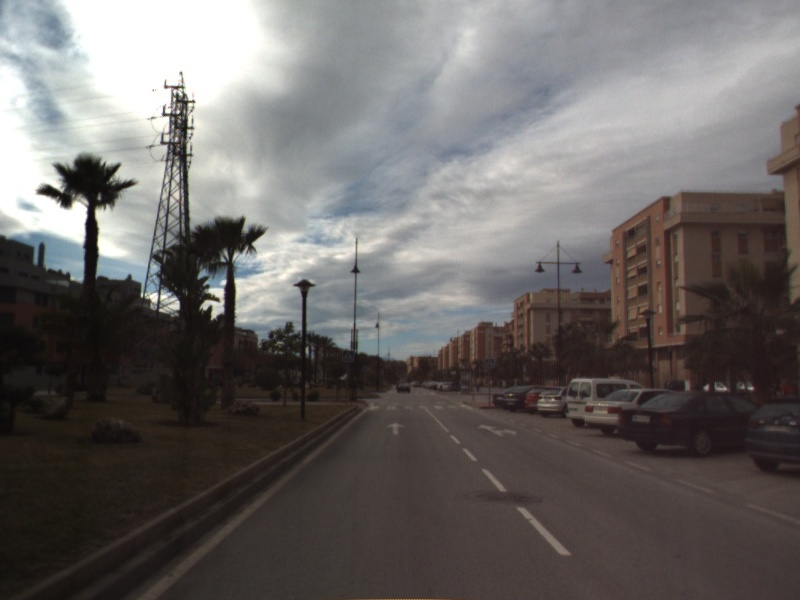STRAIGHT: (384, 420, 407, 436)
STRAIGHT_RIGHT: (476, 422, 519, 438)
